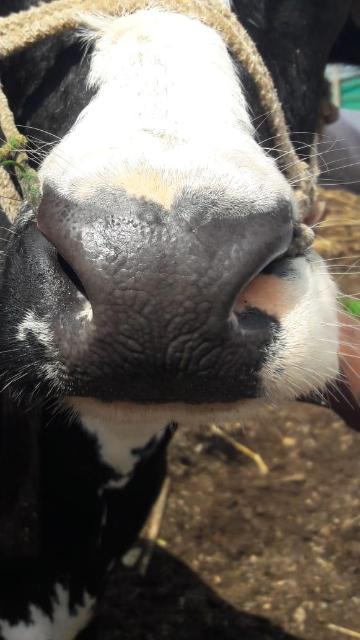Muzzle: (90, 210, 234, 400)
